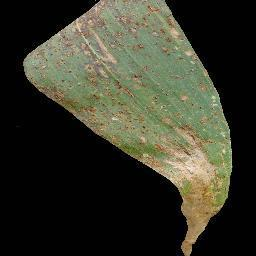Corn_Common_Rust: (20, 0, 168, 177), (167, 107, 239, 256), (167, 3, 225, 107)
